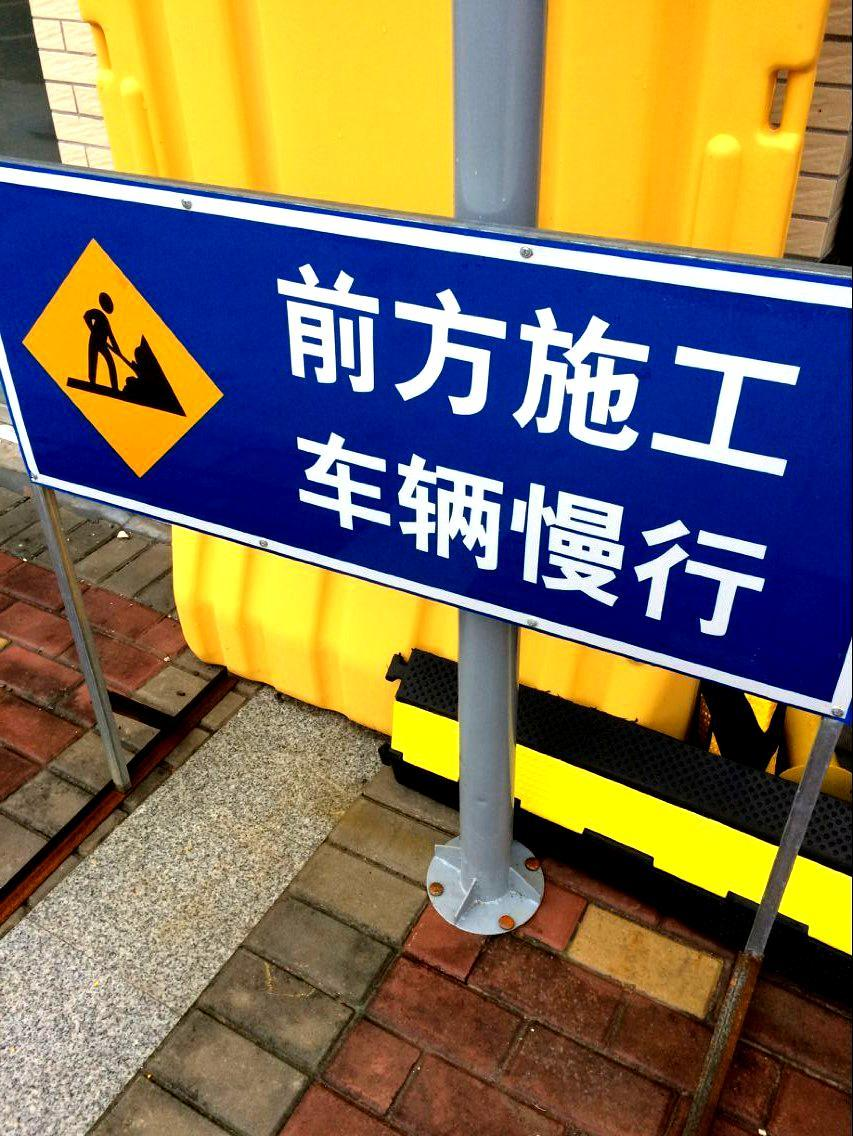sign: (14, 164, 853, 668)
